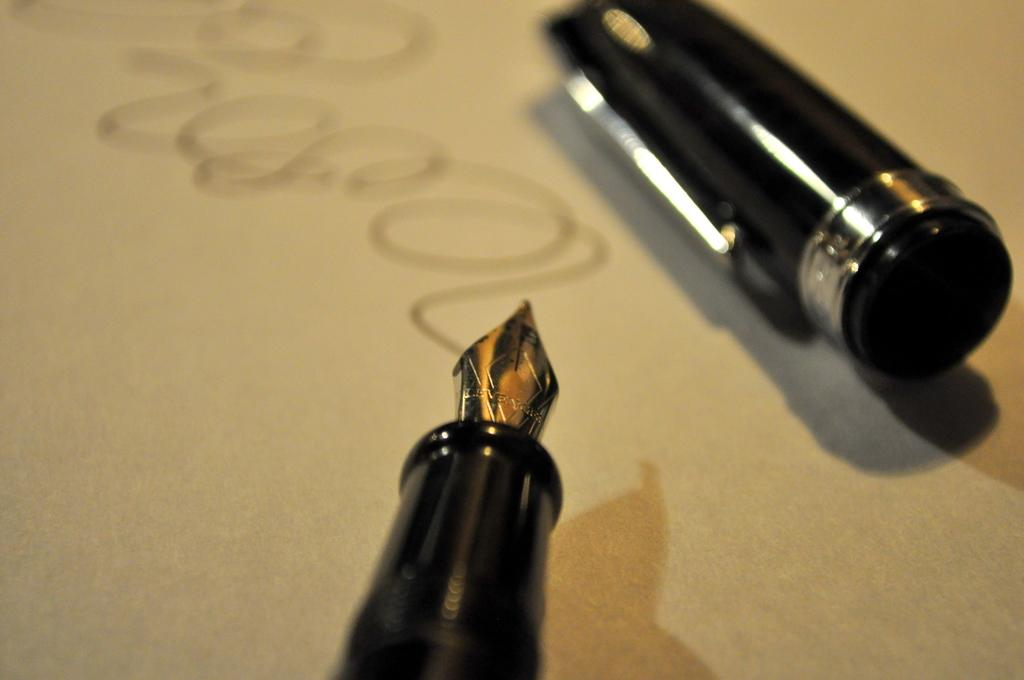pen: (541, 0, 1023, 380), (326, 292, 573, 679)
